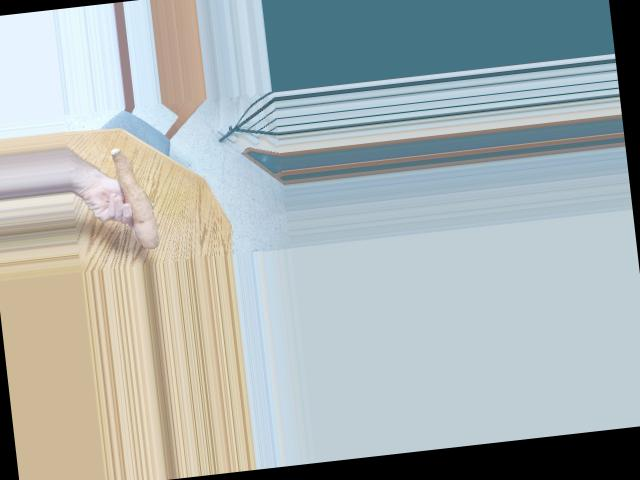sweet_potato: (105, 143, 162, 249)
